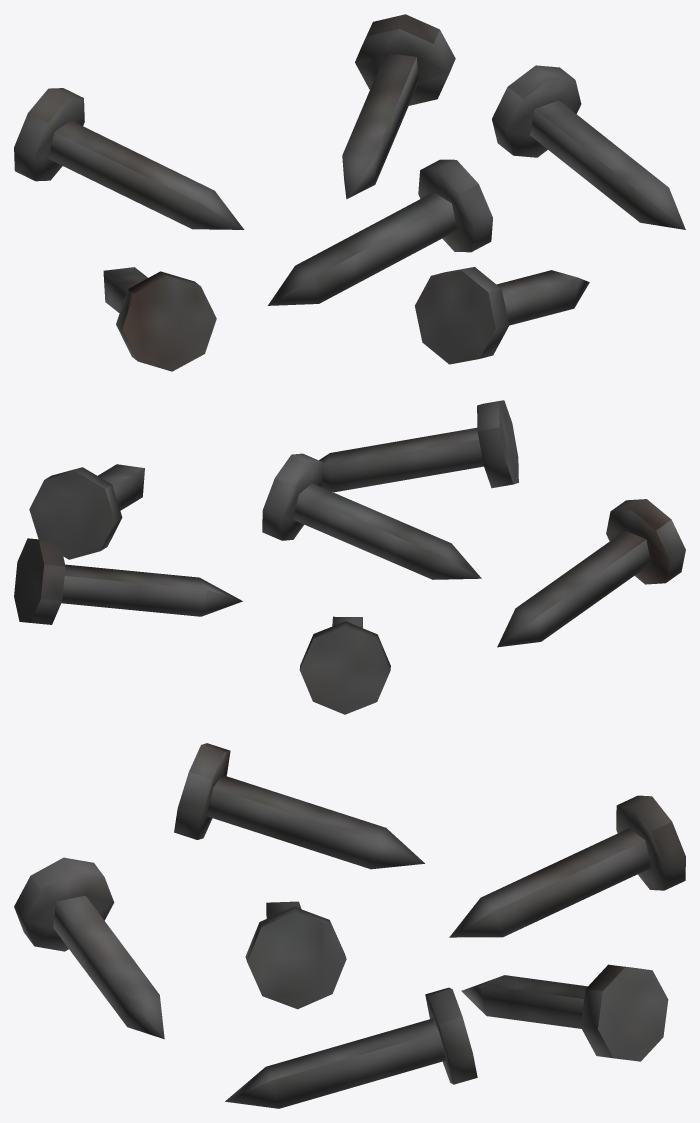
The model's file is nails_1.fbx.
3 renders of one model, top to bottom at view 1: azimuth 30°, elevation 25°; view 2: azimuth 150°, elevation 25°; view 3: azimuth 270°, elevation 25°, orthographic. The views are drawn at different scales.
Parts seen in each view (by area): view 1: nails_1; view 2: nails_1; view 3: nails_1.
Boxes of the visible parts, x1,y1,x2,y2 form: nails_1: (14,14,685,371); nails_1: (14,400,685,714); nails_1: (14,743,685,1108).
Size of the model in its own units: 13.67 by 2.17 by 13.48.
